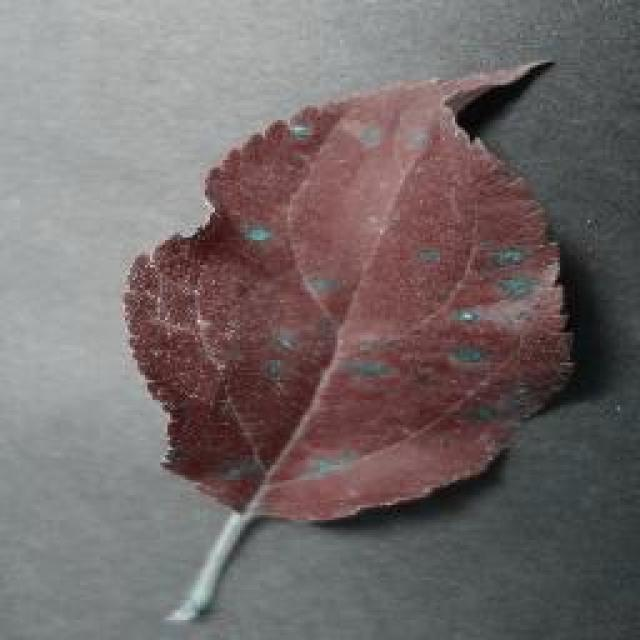apple healthy: (120, 55, 578, 527)
